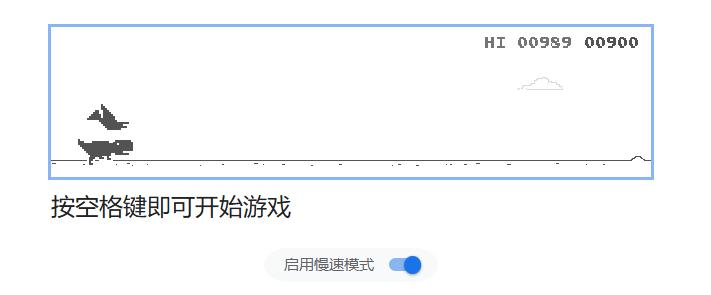bird: (85, 104, 129, 130)
dino: (77, 139, 136, 164)
